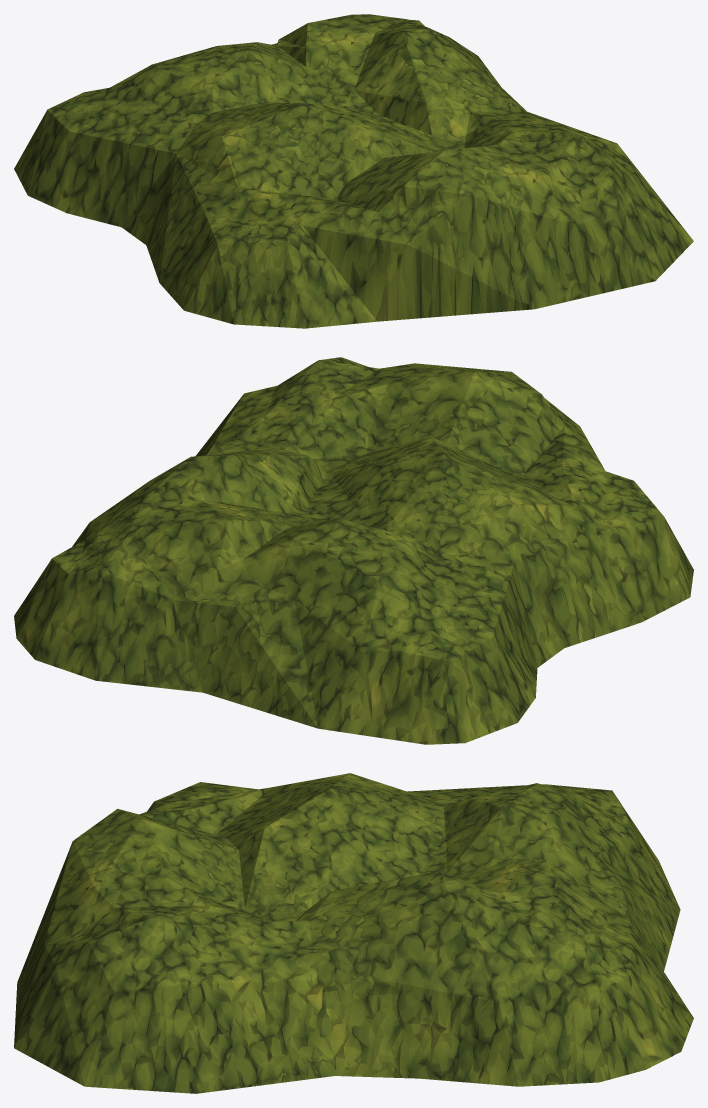
Rendered from swp_Env_MossMound_01.glb.
3 renders of one model, top to bottom at view 1: azimuth 30°, elevation 25°; view 2: azimuth 150°, elevation 25°; view 3: azimuth 270°, elevation 25°, orthographic. The views are drawn at different scales.
Visible parts, largest first — view 1: SM_Env_MossMound_01_LOD0; view 2: SM_Env_MossMound_01_LOD0; view 3: SM_Env_MossMound_01_LOD0.
Part boxes in pixels (x1,y1,x2,y2): SM_Env_MossMound_01_LOD0: (14, 14, 693, 328); SM_Env_MossMound_01_LOD0: (14, 357, 693, 744); SM_Env_MossMound_01_LOD0: (14, 773, 693, 1093).
Bounding box in the file's own units: 1.98 × 0.5166 × 2.22.
1 material, 1 textured.
